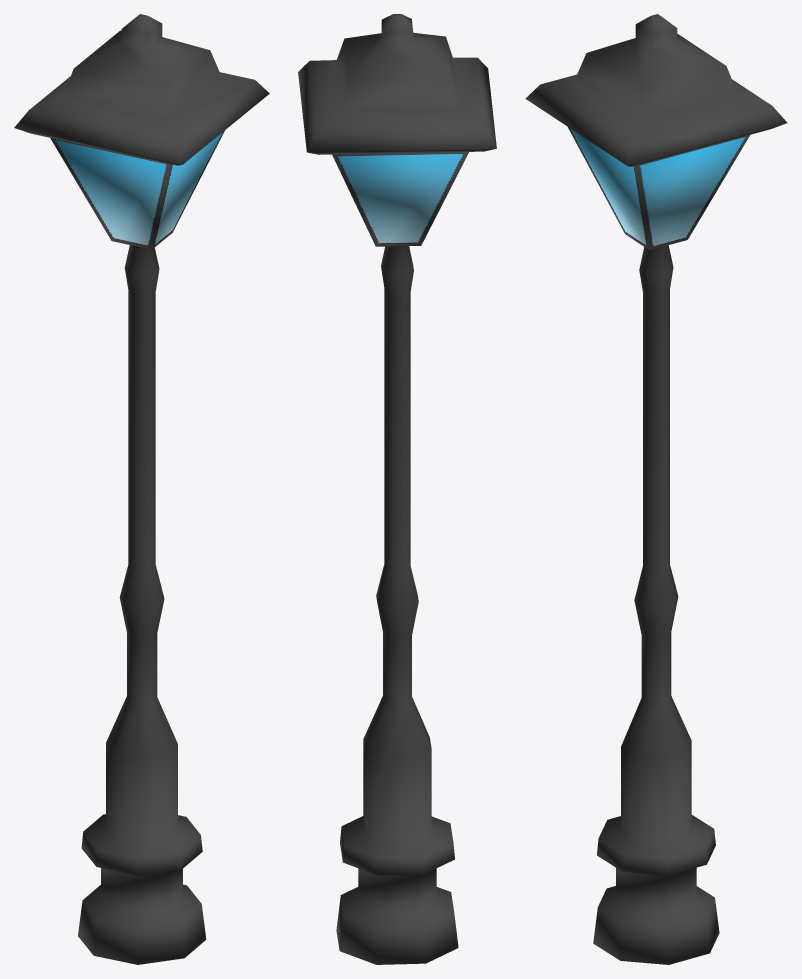
File: street_light.glb
3 views of the same model, side by side, from view 1: azimuth 30°, elevation 25°; view 2: azimuth 150°, elevation 25°; view 3: azimuth 270°, elevation 25° (orthographic).
Parts seen in each view (by area): view 1: street_light; view 2: street_light; view 3: street_light.
Boxes of the visible parts, box(x1,y1,x2,y2) form: street_light: box(14, 14, 269, 964); street_light: box(298, 14, 496, 964); street_light: box(525, 14, 787, 964).
Size of the model in its own units: 0.6399 by 2.48 by 0.6399.
1 material, 1 textured.
